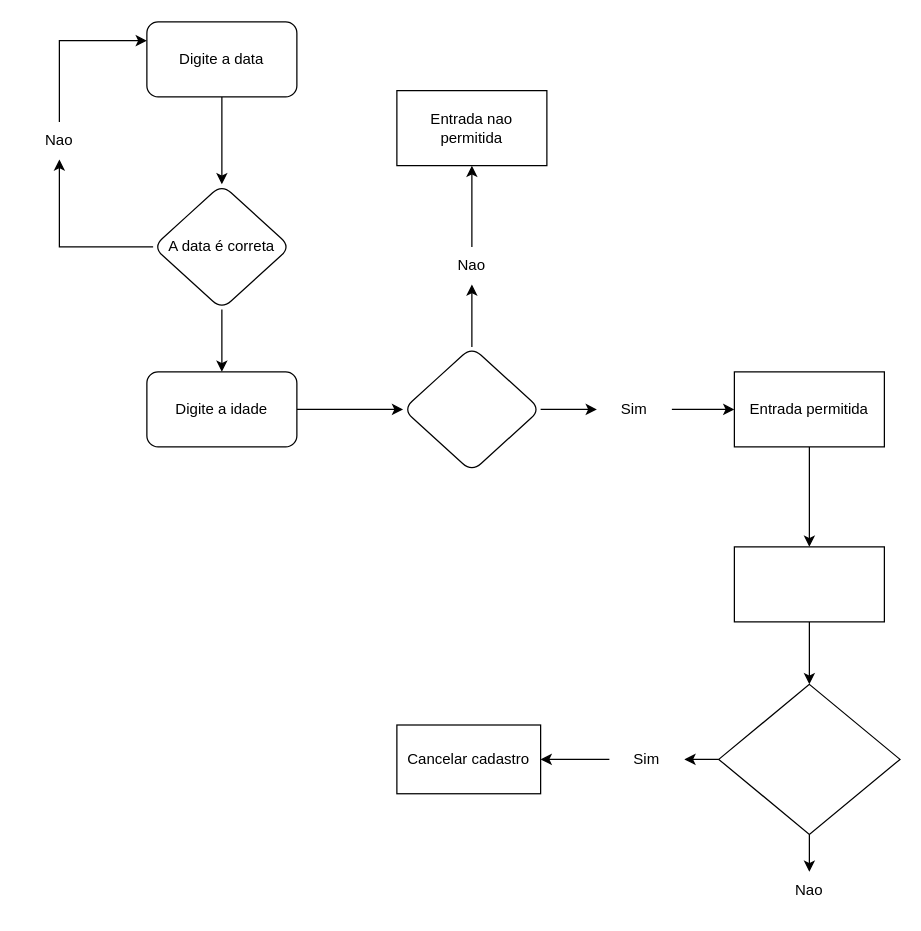
Some shapes in this 921 by 931 pixel diagram are drawn without their labels. Each missing label, with the centre of its shape:
";É maior de Idade" belongs at (x=471, y=409).
"Existem mais de 100 participantes?" belongs at (x=809, y=758).
"Verificar lista de participantes" belongs at (x=808, y=584).
